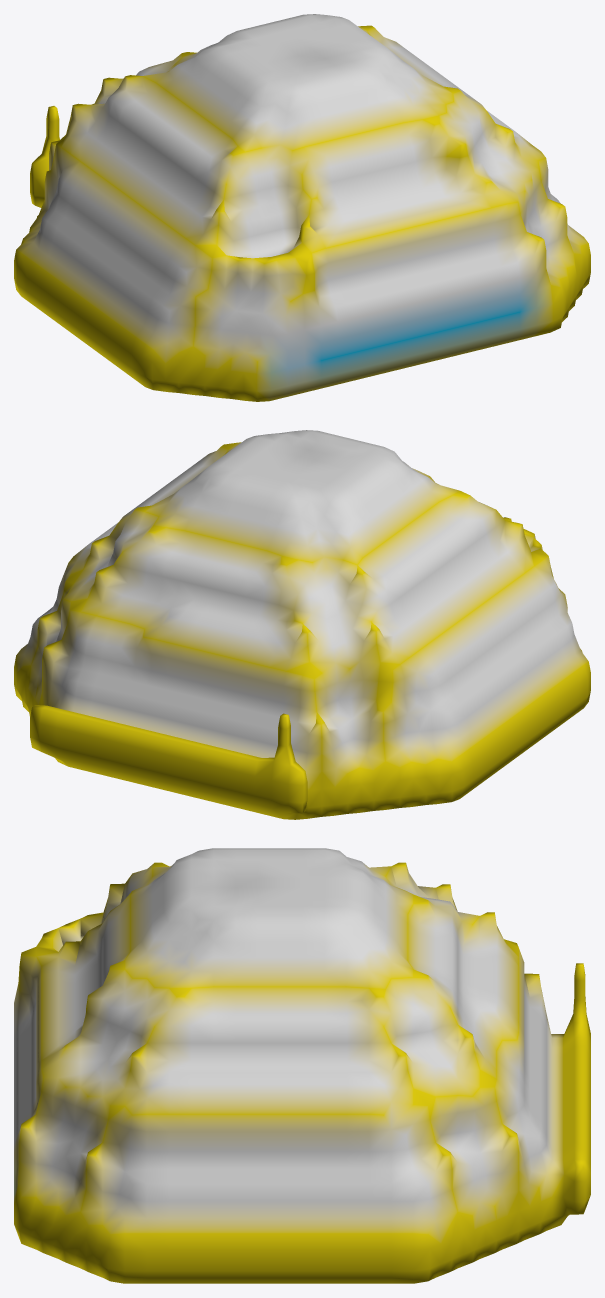
3 views of the same model, one above another, from view 1: azimuth 30°, elevation 25°; view 2: azimuth 150°, elevation 25°; view 3: azimuth 270°, elevation 25° (orthographic). The views are drawn at different scales.
Size of the model in its own units: 1.35 by 0.7 by 1.3.
